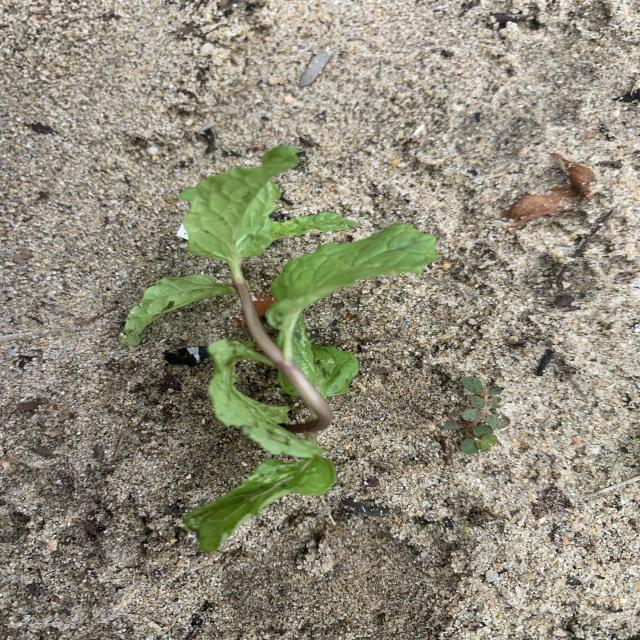crop: (121, 146, 439, 552)
weed: (443, 376, 510, 455), (460, 521, 469, 541)
